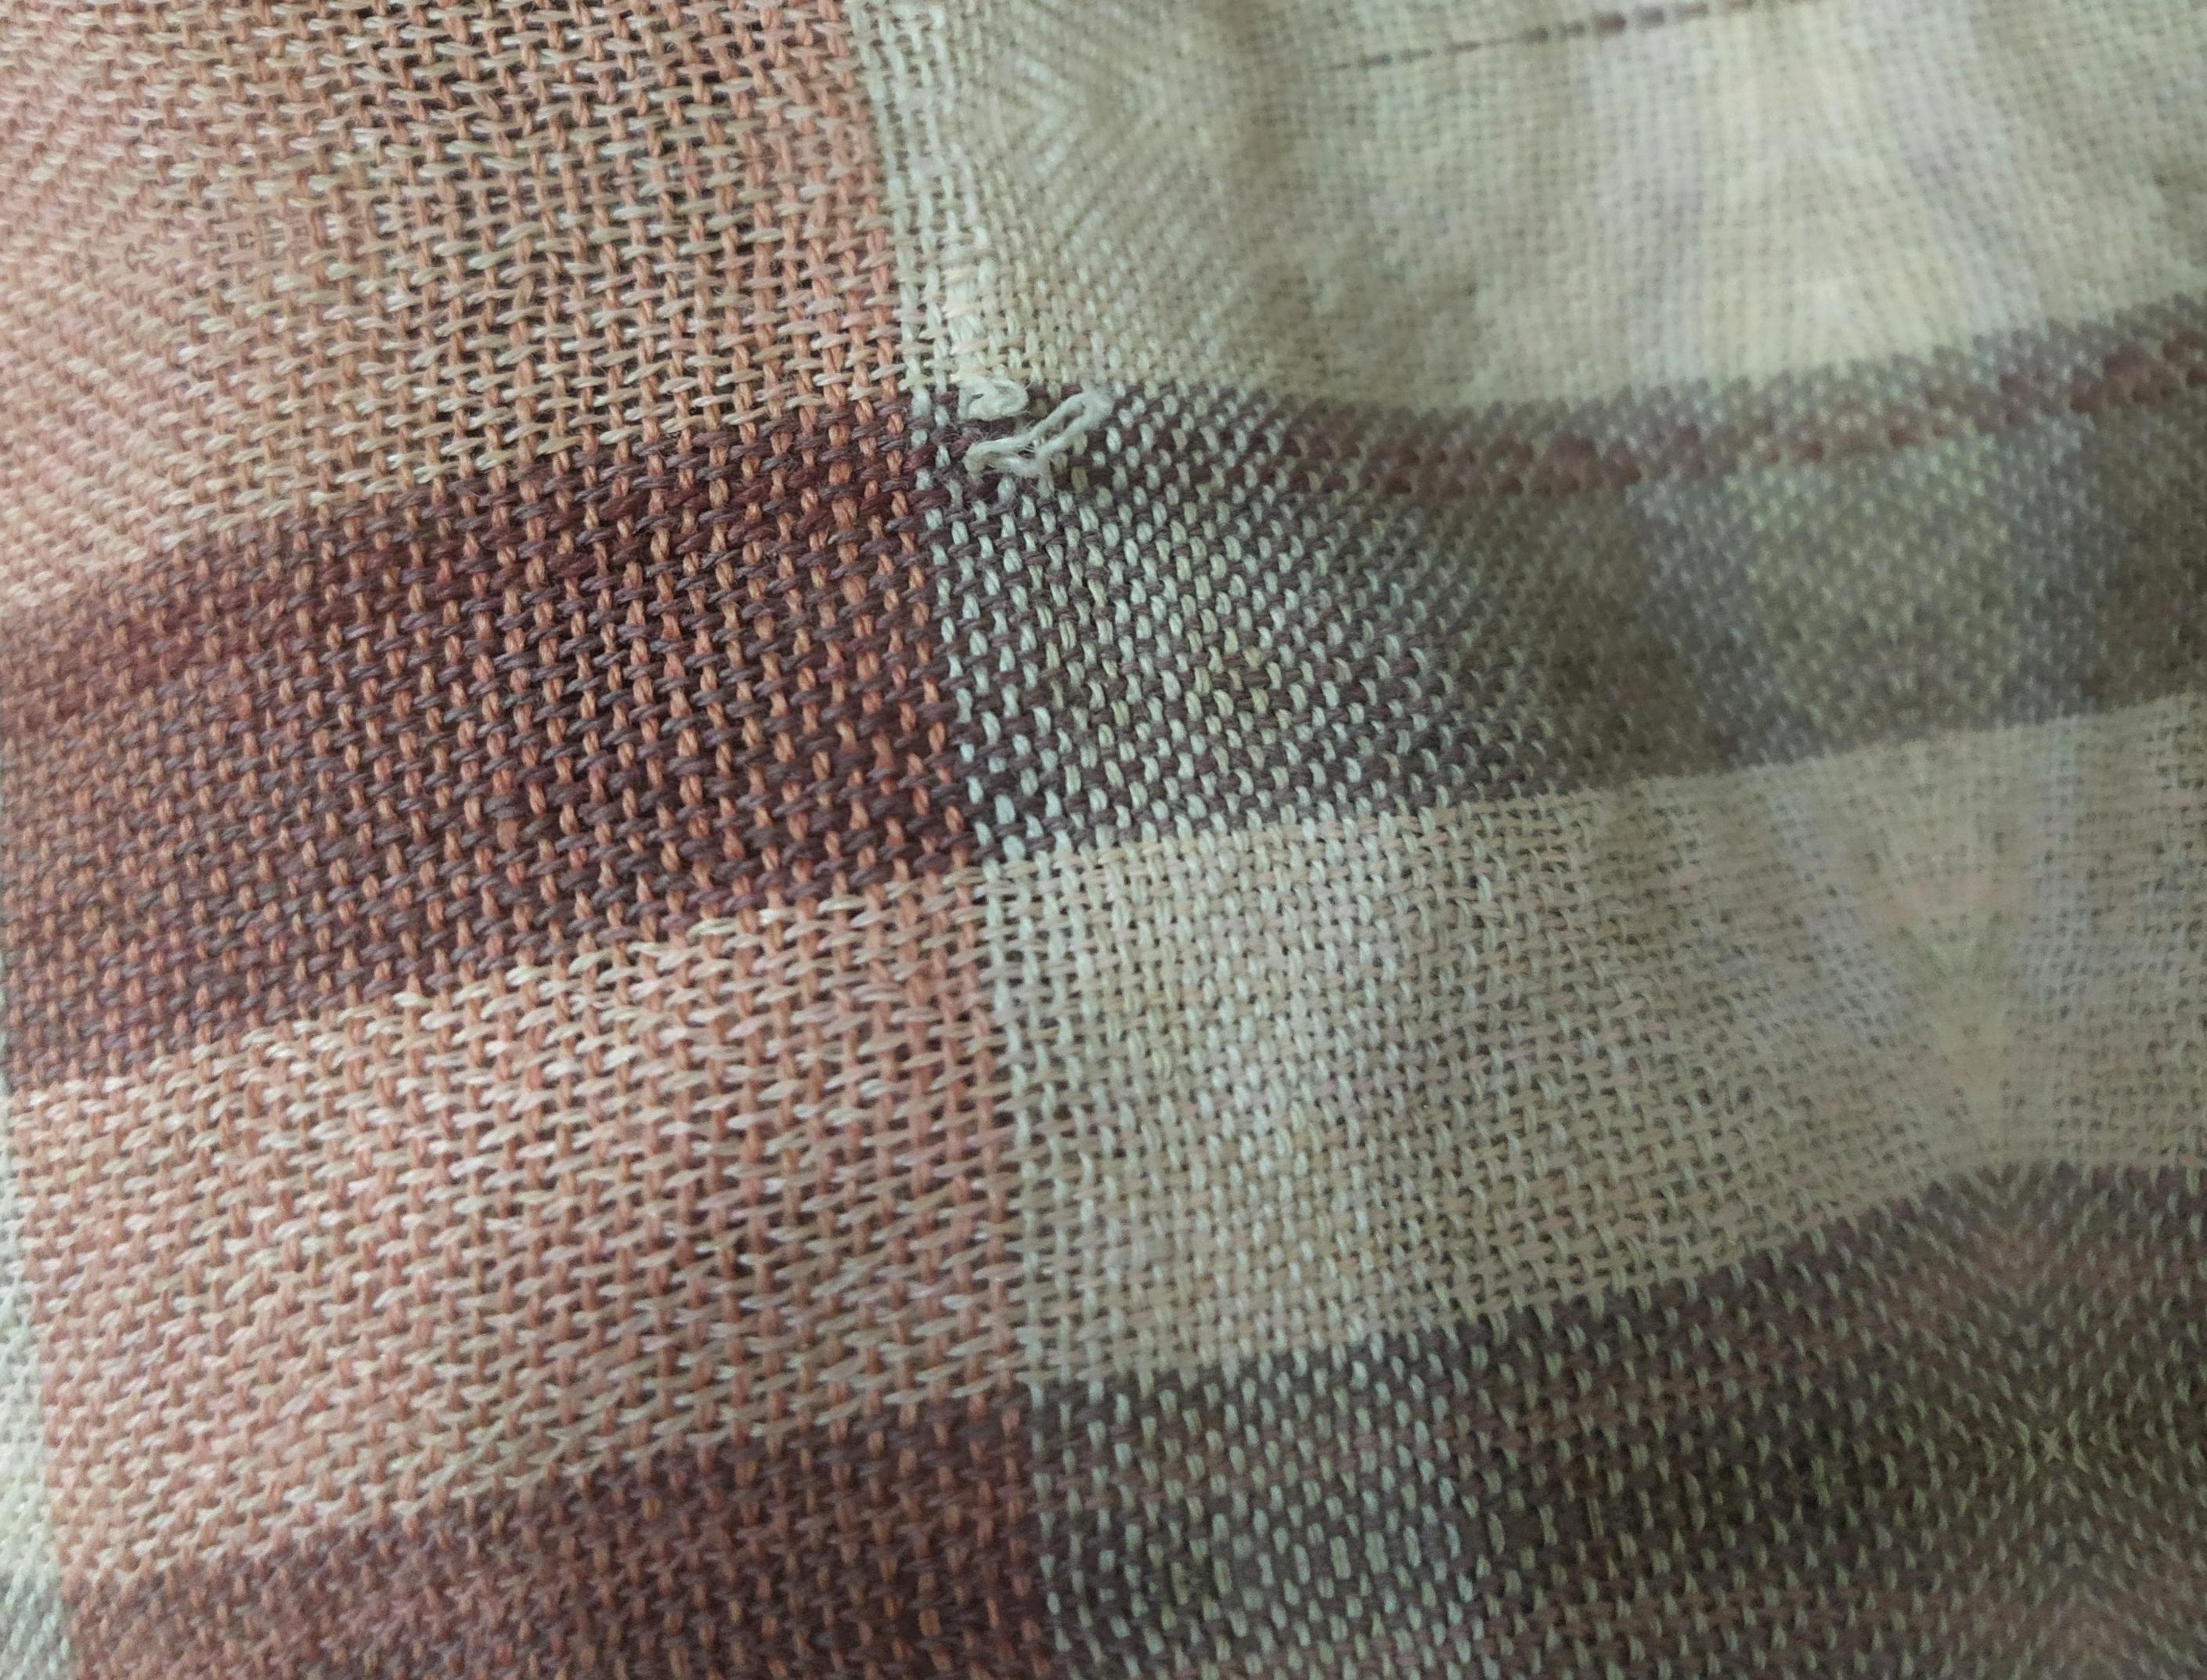snag: (928, 358, 1166, 515)
